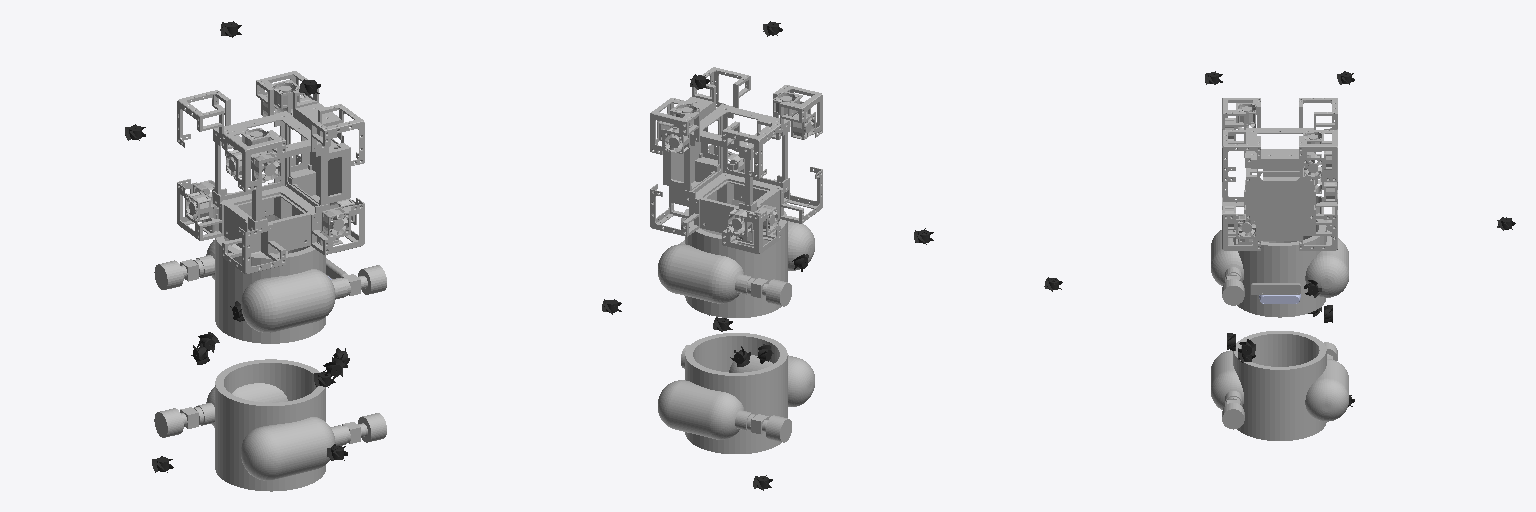
URDF robot description (HRA_AFD_assmebly):
<?xml version="1.0" encoding="utf-8"?>
<!-- This URDF was automatically created by SolidWorks to URDF Exporter! Originally created by Stephen Brawner (brawner@gmail.com) 
     Commit Version: 1.6.0-4-g7f85cfe  Build Version: 1.6.7995.38578
     For more information, please see http://wiki.ros.org/sw_urdf_exporter -->
<robot
  name="HRA_AFD_assmebly">
  <link
    name="base_link">
    <!-- 删除：原 base_link 惯性 -->
    <visual>
      <origin
        xyz="0 0 0"
        rpy="0 0 0" />
      <geometry>
        <mesh
          filename="package://HRA_AFD_assmebly/meshes/base_link.STL" />
      </geometry>
      <material
        name="">
        <color
          rgba="0.75294 0.75294 0.75294 1" />
      </material>
    </visual>
    <collision>
      <origin
        xyz="0 0 0"
        rpy="0 0 0" />
      <geometry>
        <mesh
          filename="package://HRA_AFD_assmebly/meshes/base_link.STL" />
      </geometry>
    </collision>
  </link>
  
  <!-- 新增：虚拟子链接 dummy_link 承载原 base_link 惯性 -->
  <link name="dummy_link">
    <inertial>
      <origin
        xyz="0.001036 -0.001377 -0.012817"
        rpy="0 0 0" />
      <mass
        value="3.4296" />
      <inertia
        ixx="0.0081806"
        ixy="2.5668E-07"
        ixz="3.2733E-06"
        iyy="0.010474"
        iyz="1.5189E-06"
        izz="0.011973" />
    </inertial>
  </link>

  <!-- 新增：固定关节，把 dummy_link 刚性挂载到 base_link -->
  <joint name="base_to_dummy" type="fixed">
    <parent link="base_link"/>
    <child  link="dummy_link"/>
    <origin xyz="0 0 0" rpy="0 0 0"/>
  </joint>
  
  <link
    name="LX+_Link">
    <inertial>
      <origin
        xyz="-1.8519E-10 -2.9906E-10 -0.017338"
        rpy="0 0 0" />
      <mass
        value="0.039411" />
      <inertia
        ixx="2.5177E-06"
        ixy="1.1922E-14"
        ixz="-1.4822E-13"
        iyy="2.5177E-06"
        iyz="7.8541E-15"
        izz="2.7426E-06" />
    </inertial>
    <visual>
      <origin
        xyz="0 0 0"
        rpy="0 0 0" />
      <geometry>
        <mesh
          filename="package://HRA_AFD_assmebly/meshes/LX+_Link.STL" />
      </geometry>
      <material
        name="">
        <color
          rgba="0.22353 0.22353 0.22353 1" />
      </material>
    </visual>
    <collision>
      <origin
        xyz="0 0 0"
        rpy="0 0 0" />
      <geometry>
        <mesh
          filename="package://HRA_AFD_assmebly/meshes/LX+_Link.STL" />
      </geometry>
    </collision>
  </link>
  <joint
    name="LX+_joint"
    type="fixed">
    <origin
      xyz="0.122 0.071 0.071"
      rpy="1.5708 0 1.5708" />
    <parent
      link="base_link" />
    <child
      link="LX+_Link" />
    <axis
      xyz="0 0 -1" />
  </joint>
  <link
    name="LX-_Link">
    <inertial>
      <origin
        xyz="-1.8519E-10 -2.9906E-10 -0.017338"
        rpy="0 0 0" />
      <mass
        value="0.039411" />
      <inertia
        ixx="2.5177E-06"
        ixy="1.1922E-14"
        ixz="-1.4822E-13"
        iyy="2.5177E-06"
        iyz="7.8541E-15"
        izz="2.7426E-06" />
    </inertial>
    <visual>
      <origin
        xyz="0 0 0"
        rpy="0 0 0" />
      <geometry>
        <mesh
          filename="package://HRA_AFD_assmebly/meshes/LX-_Link.STL" />
      </geometry>
      <material
        name="">
        <color
          rgba="0.22353 0.22353 0.22353 1" />
      </material>
    </visual>
    <collision>
      <origin
        xyz="0 0 0"
        rpy="0 0 0" />
      <geometry>
        <mesh
          filename="package://HRA_AFD_assmebly/meshes/LX-_Link.STL" />
      </geometry>
    </collision>
  </link>
  <joint
    name="LX-_joint"
    type="fixed">
    <origin
      xyz="-0.122 0.071 -0.071"
      rpy="1.5708 0 -1.5708" />
    <parent
      link="base_link" />
    <child
      link="LX-_Link" />
    <axis
      xyz="0 0 -1" />
  </joint>
  <link
    name="RX+_Link">
    <inertial>
      <origin
        xyz="1.8519E-10 2.9906E-10 -0.017338"
        rpy="0 0 0" />
      <mass
        value="0.039411" />
      <inertia
        ixx="2.5177E-06"
        ixy="1.1922E-14"
        ixz="1.4822E-13"
        iyy="2.5177E-06"
        iyz="-7.8541E-15"
        izz="2.7426E-06" />
    </inertial>
    <visual>
      <origin
        xyz="0 0 0"
        rpy="0 0 0" />
      <geometry>
        <mesh
          filename="package://HRA_AFD_assmebly/meshes/RX+_Link.STL" />
      </geometry>
      <material
        name="">
        <color
          rgba="0.22353 0.22353 0.22353 1" />
      </material>
    </visual>
    <collision>
      <origin
        xyz="0 0 0"
        rpy="0 0 0" />
      <geometry>
        <mesh
          filename="package://HRA_AFD_assmebly/meshes/RX+_Link.STL" />
      </geometry>
    </collision>
  </link>
  <joint
    name="RX+_joint"
    type="fixed">
    <origin
      xyz="0.122 -0.071 -0.071"
      rpy="1.5708 0 1.5708" />
    <parent
      link="base_link" />
    <child
      link="RX+_Link" />
    <axis
      xyz="0 0 -1" />
  </joint>
  <link
    name="RX-_Link">
    <inertial>
      <origin
        xyz="1.852E-10 2.9906E-10 -0.017338"
        rpy="0 0 0" />
      <mass
        value="0.039411" />
      <inertia
        ixx="2.5177E-06"
        ixy="1.1922E-14"
        ixz="1.4822E-13"
        iyy="2.5177E-06"
        iyz="-7.8541E-15"
        izz="2.7426E-06" />
    </inertial>
    <visual>
      <origin
        xyz="0 0 0"
        rpy="0 0 0" />
      <geometry>
        <mesh
          filename="package://HRA_AFD_assmebly/meshes/RX-_Link.STL" />
      </geometry>
      <material
        name="">
        <color
          rgba="0.22353 0.22353 0.22353 1" />
      </material>
    </visual>
    <collision>
      <origin
        xyz="0 0 0"
        rpy="0 0 0" />
      <geometry>
        <mesh
          filename="package://HRA_AFD_assmebly/meshes/RX-_Link.STL" />
      </geometry>
    </collision>
  </link>
  <joint
    name="RX-_joint"
    type="fixed">
    <origin
      xyz="-0.122 -0.071 0.071"
      rpy="1.5708 0 -1.5708" />
    <parent
      link="base_link" />
    <child
      link="RX-_Link" />
    <axis
      xyz="0 0 -1" />
  </joint>
  <link
    name="FY+_Link">
    <inertial>
      <origin
        xyz="-1.852E-10 -2.9906E-10 -0.017338"
        rpy="0 0 0" />
      <mass
        value="0.039411" />
      <inertia
        ixx="2.5177E-06"
        ixy="1.1922E-14"
        ixz="-1.4822E-13"
        iyy="2.5177E-06"
        iyz="7.8541E-15"
        izz="2.7426E-06" />
    </inertial>
    <visual>
      <origin
        xyz="0 0 0"
        rpy="0 0 0" />
      <geometry>
        <mesh
          filename="package://HRA_AFD_assmebly/meshes/FY+_Link.STL" />
      </geometry>
      <material
        name="">
        <color
          rgba="0.22353 0.22353 0.22353 1" />
      </material>
    </visual>
    <collision>
      <origin
        xyz="0 0 0"
        rpy="0 0 0" />
      <geometry>
        <mesh
          filename="package://HRA_AFD_assmebly/meshes/FY+_Link.STL" />
      </geometry>
    </collision>
  </link>
  <joint
    name="FY+_joint"
    type="fixed">
    <origin
      xyz="0.071 0.122 0.071"
      rpy="1.5708 0 3.1416" />
    <parent
      link="base_link" />
    <child
      link="FY+_Link" />
    <axis
      xyz="0 0 -1" />
  </joint>
  <link
    name="FY-_Link">
    <inertial>
      <origin
        xyz="1.852E-10 2.9906E-10 -0.017338"
        rpy="0 0 0" />
      <mass
        value="0.039411" />
      <inertia
        ixx="2.5177E-06"
        ixy="1.1922E-14"
        ixz="1.4822E-13"
        iyy="2.5177E-06"
        iyz="-7.8541E-15"
        izz="2.7426E-06" />
    </inertial>
    <visual>
      <origin
        xyz="0 0 0"
        rpy="0 0 0" />
      <geometry>
        <mesh
          filename="package://HRA_AFD_assmebly/meshes/FY-_Link.STL" />
      </geometry>
      <material
        name="">
        <color
          rgba="0.22353 0.22353 0.22353 1" />
      </material>
    </visual>
    <collision>
      <origin
        xyz="0 0 0"
        rpy="0 0 0" />
      <geometry>
        <mesh
          filename="package://HRA_AFD_assmebly/meshes/FY-_Link.STL" />
      </geometry>
    </collision>
  </link>
  <joint
    name="FY-_joint"
    type="fixed">
    <origin
      xyz="0.071 -0.122 -0.071"
      rpy="1.5708 0 0" />
    <parent
      link="base_link" />
    <child
      link="FY-_Link" />
    <axis
      xyz="0 0 -1" />
  </joint>
  <link
    name="AY+_Link">
    <inertial>
      <origin
        xyz="-2.9906E-10 1.852E-10 -0.017338"
        rpy="0 0 0" />
      <mass
        value="0.039411" />
      <inertia
        ixx="2.5177E-06"
        ixy="-1.1922E-14"
        ixz="7.8541E-15"
        iyy="2.5177E-06"
        iyz="1.4822E-13"
        izz="2.7426E-06" />
    </inertial>
    <visual>
      <origin
        xyz="0 0 0"
        rpy="0 0 0" />
      <geometry>
        <mesh
          filename="package://HRA_AFD_assmebly/meshes/AY+_Link.STL" />
      </geometry>
      <material
        name="">
        <color
          rgba="0.22353 0.22353 0.22353 1" />
      </material>
    </visual>
    <collision>
      <origin
        xyz="0 0 0"
        rpy="0 0 0" />
      <geometry>
        <mesh
          filename="package://HRA_AFD_assmebly/meshes/AY+_Link.STL" />
      </geometry>
    </collision>
  </link>
  <joint
    name="AY+_joint"
    type="fixed">
    <origin
      xyz="-0.071 0.122 -0.071"
      rpy="1.5708 0 3.1416" />
    <parent
      link="base_link" />
    <child
      link="AY+_Link" />
    <axis
      xyz="0 0 -1" />
  </joint>
  <link
    name="AY-_Link">
    <inertial>
      <origin
        xyz="2.9906E-10 -1.852E-10 -0.017338"
        rpy="0 0 0" />
      <mass
        value="0.039411" />
      <inertia
        ixx="2.5177E-06"
        ixy="-1.1922E-14"
        ixz="-7.8541E-15"
        iyy="2.5177E-06"
        iyz="-1.4822E-13"
        izz="2.7426E-06" />
    </inertial>
    <visual>
      <origin
        xyz="0 0 0"
        rpy="0 0 0" />
      <geometry>
        <mesh
          filename="package://HRA_AFD_assmebly/meshes/AY-_Link.STL" />
      </geometry>
      <material
        name="">
        <color
          rgba="0.22353 0.22353 0.22353 1" />
      </material>
    </visual>
    <collision>
      <origin
        xyz="0 0 0"
        rpy="0 0 0" />
      <geometry>
        <mesh
          filename="package://HRA_AFD_assmebly/meshes/AY-_Link.STL" />
      </geometry>
    </collision>
  </link>
  <joint
    name="AY-_joint"
    type="fixed">
    <origin
      xyz="-0.071 -0.122 0.071"
      rpy="1.5708 0 0" />
    <parent
      link="base_link" />
    <child
      link="AY-_Link" />
    <axis
      xyz="0 0 -1" />
  </joint>
  <link
    name="LZ+_Link">
    <inertial>
      <origin
        xyz="2.9906E-10 -1.852E-10 -0.017338"
        rpy="0 0 0" />
      <mass
        value="0.039411" />
      <inertia
        ixx="2.5177E-06"
        ixy="-1.1922E-14"
        ixz="-7.8541E-15"
        iyy="2.5177E-06"
        iyz="-1.4822E-13"
        izz="2.7426E-06" />
    </inertial>
    <visual>
      <origin
        xyz="0 0 0"
        rpy="0 0 0" />
      <geometry>
        <mesh
          filename="package://HRA_AFD_assmebly/meshes/LZ+_Link.STL" />
      </geometry>
      <material
        name="">
        <color
          rgba="0.22353 0.22353 0.22353 1" />
      </material>
    </visual>
    <collision>
      <origin
        xyz="0 0 0"
        rpy="0 0 0" />
      <geometry>
        <mesh
          filename="package://HRA_AFD_assmebly/meshes/LZ+_Link.STL" />
      </geometry>
    </collision>
  </link>
  <joint
    name="LZ+_joint"
    type="fixed">
    <origin
      xyz="0.071 0.071 0.122"
      rpy="0 0 1.5708" />
    <parent
      link="base_link" />
    <child
      link="LZ+_Link" />
    <axis
      xyz="0 0 -1" />
  </joint>
  <link
    name="LZ-_Link">
    <inertial>
      <origin
        xyz="-1.852E-10 -2.9906E-10 -0.017338"
        rpy="0 0 0" />
      <mass
        value="0.039411" />
      <inertia
        ixx="2.5177E-06"
        ixy="1.1922E-14"
        ixz="-1.4822E-13"
        iyy="2.5177E-06"
        iyz="7.8541E-15"
        izz="2.7426E-06" />
    </inertial>
    <visual>
      <origin
        xyz="0 0 0"
        rpy="0 0 0" />
      <geometry>
        <mesh
          filename="package://HRA_AFD_assmebly/meshes/LZ-_Link.STL" />
      </geometry>
      <material
        name="">
        <color
          rgba="0.22353 0.22353 0.22353 1" />
      </material>
    </visual>
    <collision>
      <origin
        xyz="0 0 0"
        rpy="0 0 0" />
      <geometry>
        <mesh
          filename="package://HRA_AFD_assmebly/meshes/LZ-_Link.STL" />
      </geometry>
    </collision>
  </link>
  <joint
    name="LZ-_joint"
    type="fixed">
    <origin
      xyz="-0.071 0.071 -0.122"
      rpy="3.1416 0 -1.5708" />
    <parent
      link="base_link" />
    <child
      link="LZ-_Link" />
    <axis
      xyz="0 0 -1" />
  </joint>
  <link
    name="RZ+_Link">
    <inertial>
      <origin
        xyz="-1.852E-10 -2.9906E-10 -0.017338"
        rpy="0 0 0" />
      <mass
        value="0.039411" />
      <inertia
        ixx="2.5177E-06"
        ixy="1.1922E-14"
        ixz="-1.4822E-13"
        iyy="2.5177E-06"
        iyz="7.8541E-15"
        izz="2.7426E-06" />
    </inertial>
    <visual>
      <origin
        xyz="0 0 0"
        rpy="0 0 0" />
      <geometry>
        <mesh
          filename="package://HRA_AFD_assmebly/meshes/RZ+_Link.STL" />
      </geometry>
      <material
        name="">
        <color
          rgba="0.22353 0.22353 0.22353 1" />
      </material>
    </visual>
    <collision>
      <origin
        xyz="0 0 0"
        rpy="0 0 0" />
      <geometry>
        <mesh
          filename="package://HRA_AFD_assmebly/meshes/RZ+_Link.STL" />
      </geometry>
    </collision>
  </link>
  <joint
    name="RZ+_joint"
    type="fixed">
    <origin
      xyz="-0.071 -0.071 0.122"
      rpy="0 0 1.5708" />
    <parent
      link="base_link" />
    <child
      link="RZ+_Link" />
    <axis
      xyz="0 0 -1" />
  </joint>
  <link
    name="RZ-_Link">
    <inertial>
      <origin
        xyz="2.9906E-10 -1.852E-10 -0.017338"
        rpy="0 0 0" />
      <mass
        value="0.039411" />
      <inertia
        ixx="2.5177E-06"
        ixy="-1.1922E-14"
        ixz="-7.8541E-15"
        iyy="2.5177E-06"
        iyz="-1.4822E-13"
        izz="2.7426E-06" />
    </inertial>
    <visual>
      <origin
        xyz="0 0 0"
        rpy="0 0 0" />
      <geometry>
        <mesh
          filename="package://HRA_AFD_assmebly/meshes/RZ-_Link.STL" />
      </geometry>
      <material
        name="">
        <color
          rgba="0.22353 0.22353 0.22353 1" />
      </material>
    </visual>
    <collision>
      <origin
        xyz="0 0 0"
        rpy="0 0 0" />
      <geometry>
        <mesh
          filename="package://HRA_AFD_assmebly/meshes/RZ-_Link.STL" />
      </geometry>
    </collision>
  </link>
  <joint
    name="RZ-_joint"
    type="fixed">
    <origin
      xyz="0.071 -0.071 -0.122"
      rpy="-3.1416 0 -1.5708" />
    <parent
      link="base_link" />
    <child
      link="RZ-_Link" />
    <axis
      xyz="0 0 -1" />
  </joint>
  <link
    name="T265_Link">
    <inertial>
      <origin
        xyz="-0.001386 -0.0091923 -2.5634E-07"
        rpy="0 0 0" />
      <mass
        value="0.06" />
      <inertia
        ixx="6.1726E-05"
        ixy="3.3535E-08"
        ixz="-7.633E-11"
        iyy="3.6882E-06"
        iyz="1.473E-12"
        izz="5.9549E-05" />
    </inertial>
    <visual>
      <origin
        xyz="0 0 0"
        rpy="0 0 0" />
      <geometry>
        <mesh
          filename="package://HRA_AFD_assmebly/meshes/T265_Link.STL" />
      </geometry>
      <material
        name="">
        <color
          rgba="0.7 0.7 0.7 1" />
      </material>
    </visual>
    <collision>
      <origin
        xyz="0 0 0"
        rpy="0 0 0" />
      <geometry>
        <mesh
          filename="package://HRA_AFD_assmebly/meshes/T265_Link.STL" />
      </geometry>
    </collision>
  </link>
  <joint
    name="T265_joint"
    type="fixed">
    <origin
      xyz="0.1193 0 0.07625"
      rpy="0 0 0" />
    <parent
      link="base_link" />
    <child
      link="T265_Link" />
    <axis
      xyz="0 0 0" />
  </joint>
  <link
    name="D435i_Link">
    <inertial>
      <origin
        xyz="-0.001386 -0.0091923 -2.5634E-07"
        rpy="0 0 0" />
      <mass
        value="0.072" />
      <inertia
        ixx="6.1726E-05"
        ixy="3.3535E-08"
        ixz="-7.633E-11"
        iyy="3.6882E-06"
        iyz="1.473E-12"
        izz="5.9549E-05" />
    </inertial>
    <visual>
      <origin
        xyz="0 0 0"
        rpy="0 0 0" />
      <geometry>
        <mesh
          filename="package://HRA_AFD_assmebly/meshes/D435i_Link.STL" />
      </geometry>
      <material
        name="">
        <color
          rgba="0.79216 0.81961 0.93333 1" />
      </material>
    </visual>
    <collision>
      <origin
        xyz="0 0 0"
        rpy="0 0 0" />
      <geometry>
        <mesh
          filename="package://HRA_AFD_assmebly/meshes/D435i_Link.STL" />
      </geometry>
    </collision>
  </link>
  <joint
    name="D435i_joint"
    type="fixed">
    <origin
      xyz="0.11555 0.0175 0.0515"
      rpy="0 0 0" />
    <parent
      link="base_link" />
    <child
      link="D435i_Link" />
    <axis
      xyz="0 0 0" />
  </joint>
  <link
    name="AFD_Link">
    <inertial>
      <origin
        xyz="-1.3925E-08 0.0845 -2.7803E-18"
        rpy="0 0 0" />
      <mass
        value="9.2544" />
      <inertia
        ixx="0.078348"
        ixy="5.4891E-22"
        ixz="2.2618E-19"
        iyy="0.1002"
        iyz="5.0893E-13"
        izz="0.076995" />
    </inertial>
    <visual>
      <origin
        xyz="0 0 0"
        rpy="0 0 0" />
      <geometry>
        <mesh
          filename="package://HRA_AFD_assmebly/meshes/AFD_Link.STL" />
      </geometry>
      <material
        name="">
        <color
          rgba="0.75294 0.75294 0.75294 1" />
      </material>
    </visual>
    <collision>
      <origin
        xyz="0 0 0"
        rpy="0 0 0" />
      <geometry>
        <mesh
          filename="package://HRA_AFD_assmebly/meshes/AFD_Link.STL" />
      </geometry>
    </collision>
  </link>
  <joint
    name="AFD_joint"
    type="fixed">
    <origin
      xyz="0 0 -0.293"
      rpy="0 0 0" />
    <parent
      link="base_link" />
    <child
      link="AFD_Link" />
    <axis
      xyz="0 0 1" />
  </joint>
</robot>

--- Render facts (derived) ---
Views: 3 orthographic renders of the robot side by side, from view 1: azimuth 30°, elevation 25°; view 2: azimuth 150°, elevation 25°; view 3: azimuth 270°, elevation 25°.
Model HRA_AFD_assmebly with 17 links and 16 joints (16 fixed), rooted at base_link, posed every joint at zero.
Visible links, largest first — view 1: base_link, AFD_Link; view 2: base_link, AFD_Link; view 3: base_link, AFD_Link, T265_Link.
Boxes of the visible links, bbox=[...] form: base_link: bbox=[154, 71, 386, 343]; AFD_Link: bbox=[154, 359, 386, 491]; base_link: bbox=[650, 67, 822, 317]; AFD_Link: bbox=[658, 333, 814, 453]; base_link: bbox=[1211, 98, 1348, 317]; AFD_Link: bbox=[1211, 331, 1348, 440]; T265_Link: bbox=[1251, 283, 1300, 294].
Size in the robot's own frame: 0.34 by 1.01 by 0.849 metres.
16 mesh visuals loaded from 16 distinct referenced files (16 binary STL).
